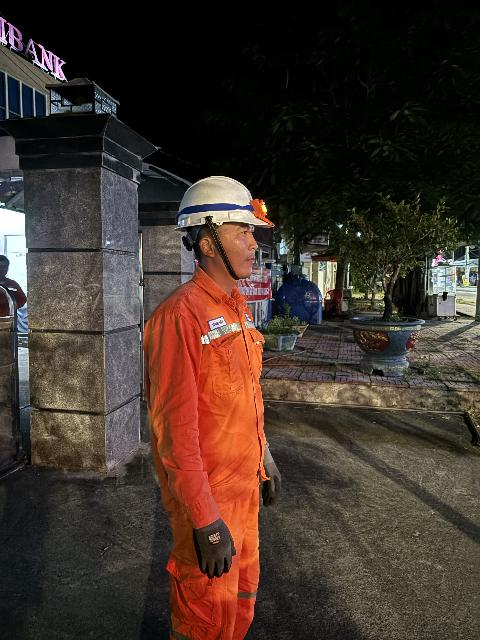gloves: (234, 437, 297, 505), (181, 513, 240, 580)
helmet: (166, 164, 278, 237)
